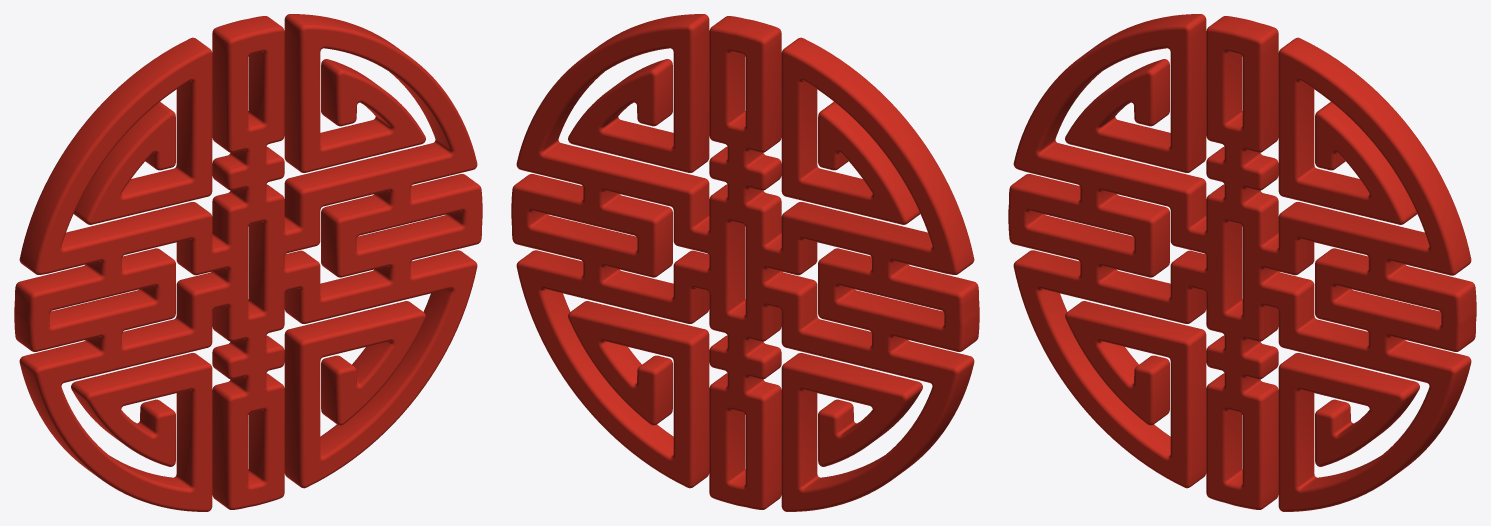
File: shou-circular-ligera.glb
The picture shows the model from 3 angles, left to right: view 1: azimuth 30°, elevation 25°; view 2: azimuth 150°, elevation 25°; view 3: azimuth 330°, elevation 25°; orthographic projection.
Parts seen in each view (by area): view 1: geometry_0; view 2: geometry_0; view 3: geometry_0.
Part boxes in pixels (x1=…): geometry_0: x1=14, y1=14, x2=482, y2=511; geometry_0: x1=511, y1=14, x2=979, y2=511; geometry_0: x1=1008, y1=14, x2=1476, y2=511.
Bounding box in the file's own units: 1 × 1 × 0.0699.
